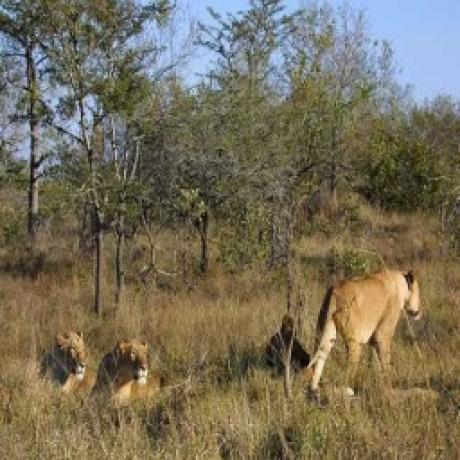Lion: (306, 259, 424, 396), (91, 335, 154, 406), (28, 327, 88, 389)
